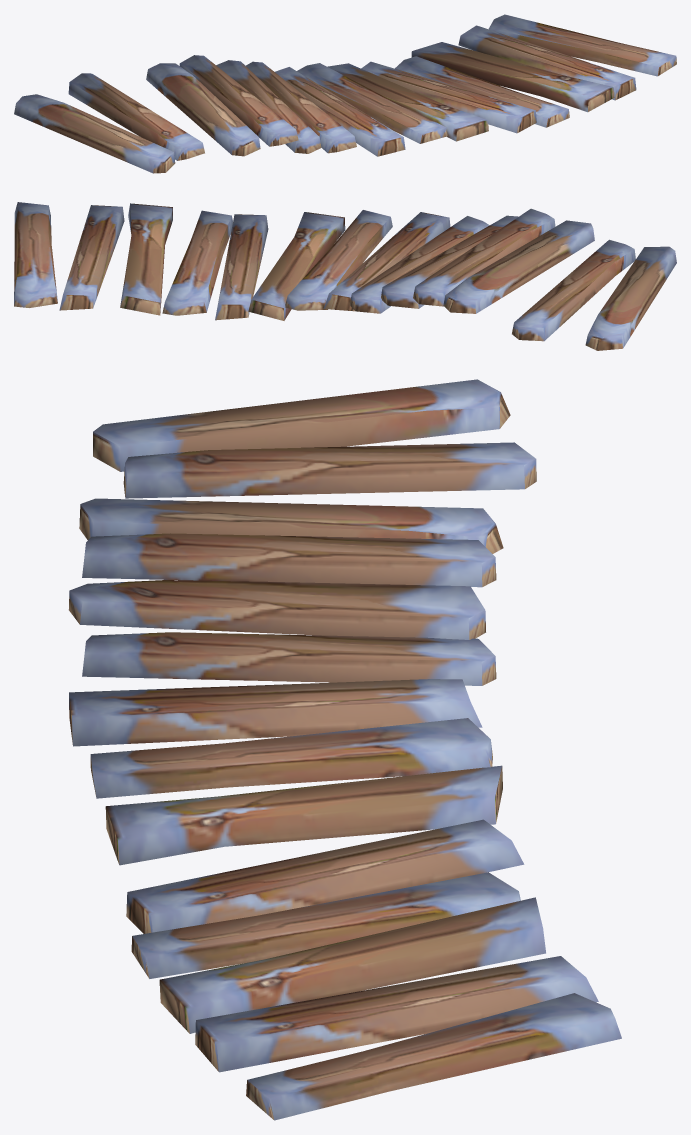
The model's file is Map_10_wooden18.FBX.
3 views of the same model, one above another, from view 1: azimuth 30°, elevation 25°; view 2: azimuth 150°, elevation 25°; view 3: azimuth 270°, elevation 25° (orthographic). The views are drawn at different scales.
Parts seen in each view (by area): view 1: Map_10_wooden18; view 2: Map_10_wooden18; view 3: Map_10_wooden18.
Boxes of the visible parts, box(x1,y1,x2,y2) form: Map_10_wooden18: box(14, 14, 676, 173); Map_10_wooden18: box(14, 202, 676, 350); Map_10_wooden18: box(68, 379, 621, 1120).
Bounding box in the file's own units: 305 × 36.85 × 120.
